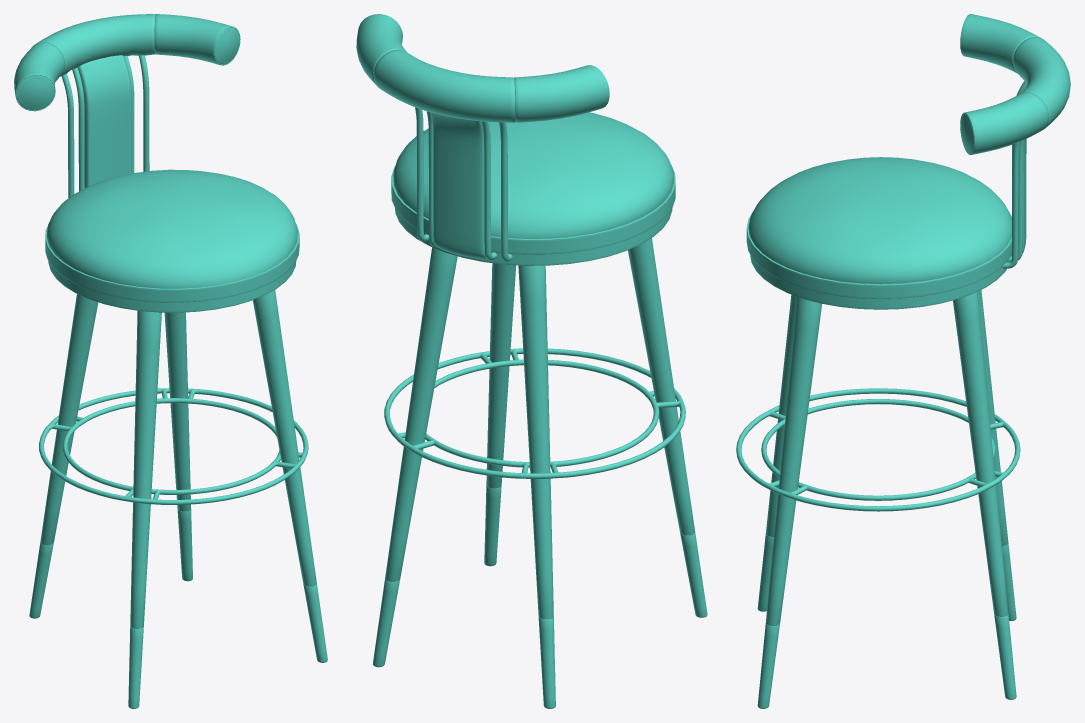
3 views of the same model, side by side, from view 1: azimuth 30°, elevation 25°; view 2: azimuth 150°, elevation 25°; view 3: azimuth 270°, elevation 25° (orthographic). The views are drawn at different scales.
Visible parts, largest first — view 1: Object002; view 2: Object002; view 3: Object002.
Boxes of the visible parts, x1=… form: Object002: x1=14, y1=14, x2=327, y2=708; Object002: x1=356, y1=14, x2=707, y2=708; Object002: x1=736, y1=14, x2=1070, y2=708.
Size of the model in its own units: 490 by 1128 by 576.
